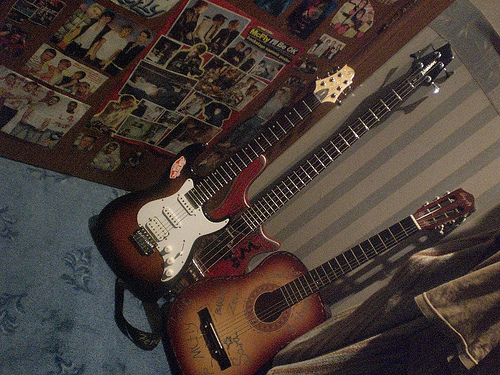guitar: (162, 185, 477, 375)
